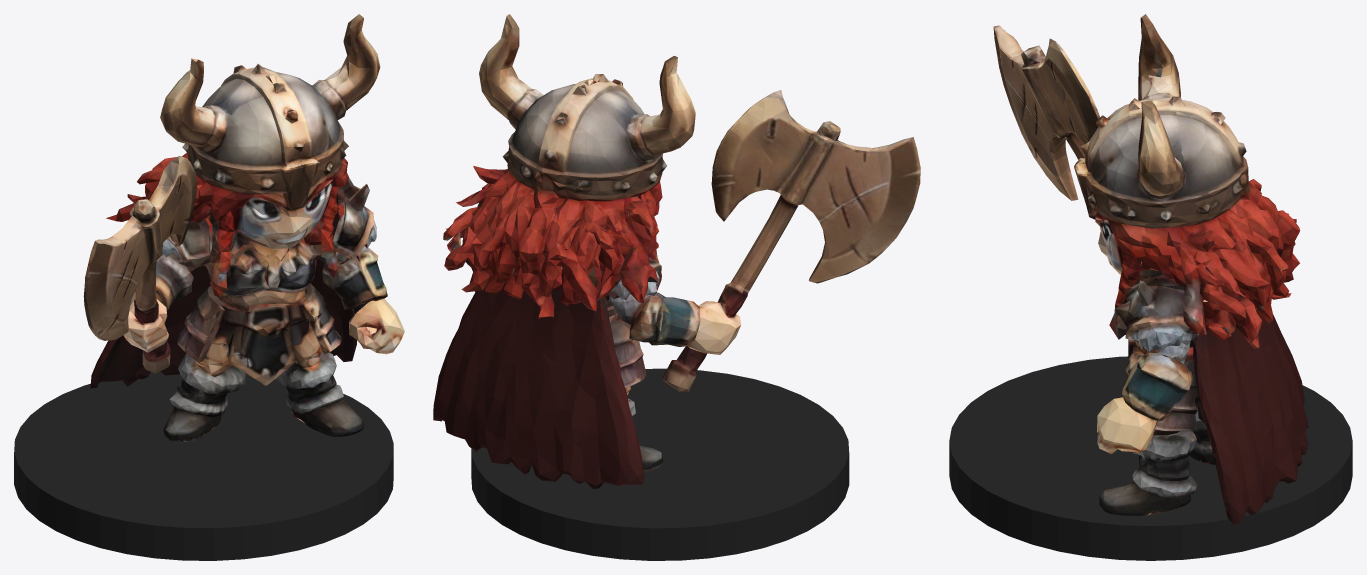
Rendered from darkoath-warqueen.glb.
3 views of the same model, side by side, from view 1: azimuth 30°, elevation 25°; view 2: azimuth 150°, elevation 25°; view 3: azimuth 270°, elevation 25° (orthographic). The views are drawn at different scales.
Visible parts, largest first — view 1: figure, base; view 2: figure, base; view 3: figure, base.
Boxes of the visible parts, x1,y1,x2,y2 form: figure: [83, 14, 404, 442]; base: [14, 371, 393, 560]; figure: [433, 14, 920, 488]; base: [471, 368, 849, 560]; figure: [993, 14, 1308, 524]; base: [949, 356, 1352, 560].
Bounding box in the file's own units: 1.46 × 1.57 × 1.26.
2 materials, 1 textured.
